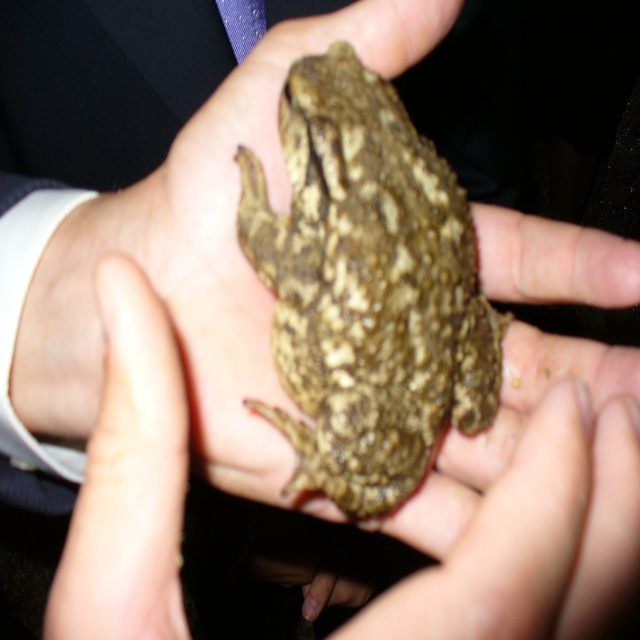Frog: (232, 37, 515, 521)
